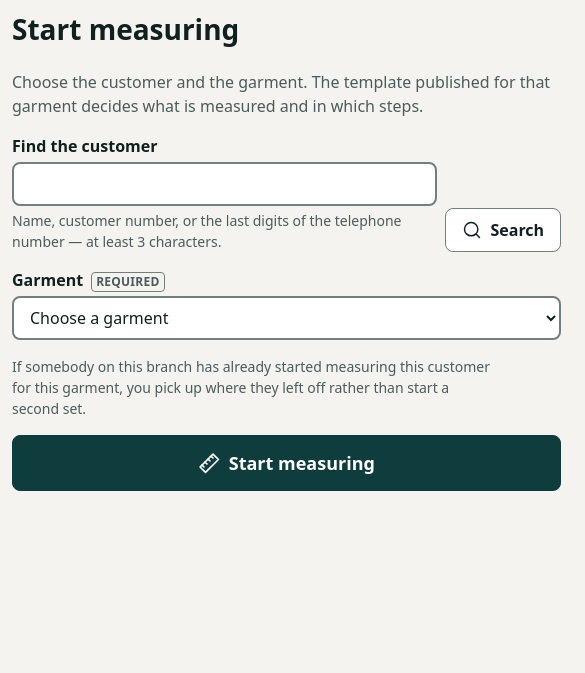
Test: starting a measurement › forgets a customer chosen from a list that is no longer on screen
Type "Asha" into the search field labelled "Find the customer" at [225, 184], box left=12, top=162, right=438, bottom=206
Then press Enter
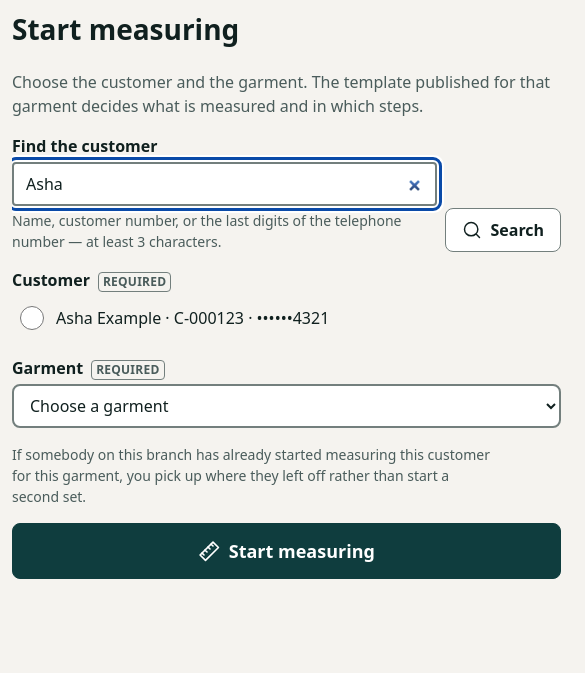
Click the radio button labelled "Asha Example · C-000123 · ••••••4321" at [32, 318], box left=20, top=306, right=44, bottom=330
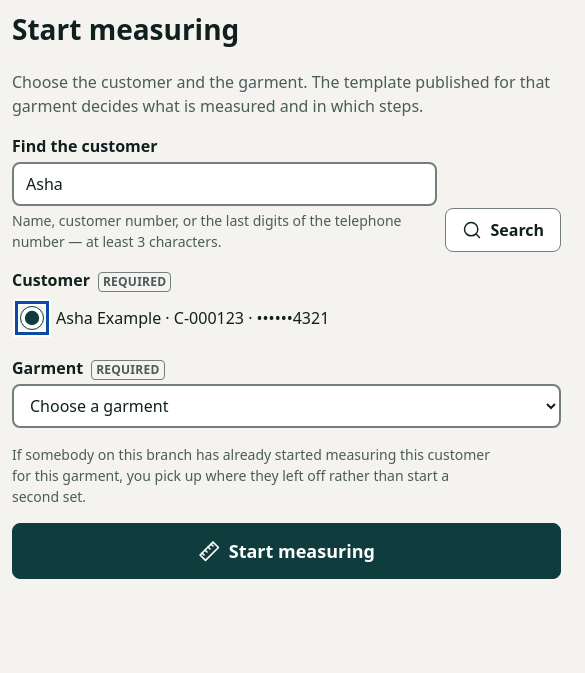
Replace the text in the search field labelled "Find the customer" with "Ravi" at [225, 184], box left=12, top=162, right=438, bottom=206
Then press Enter
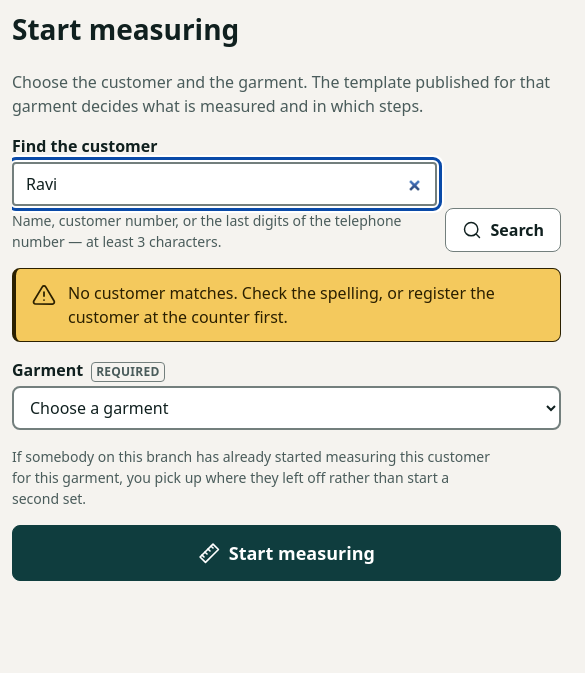
Now the text "No customer matches. Check the spelling, or register the customer at the counter first." is shown, box left=68, top=282, right=495, bottom=328
Select "Pattern work — Blouse" in the dropdown labelled "Garment" at [287, 408], box left=12, top=386, right=561, bottom=430
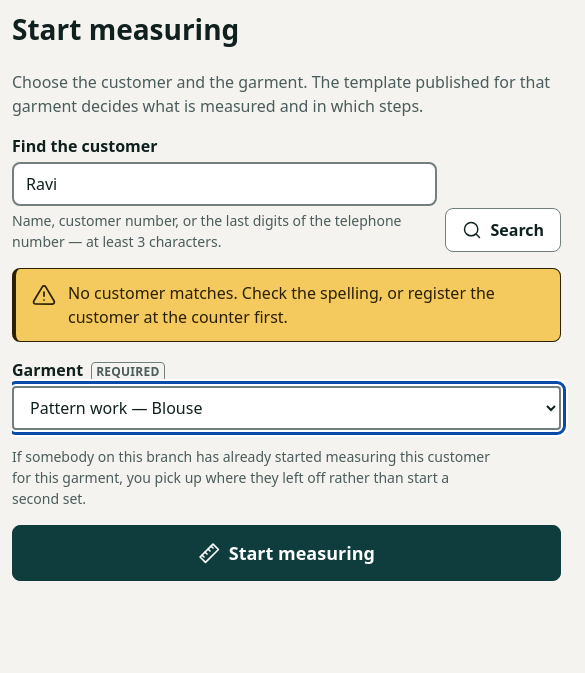
Click the button "Start measuring" at [287, 553], box left=12, top=525, right=561, bottom=581
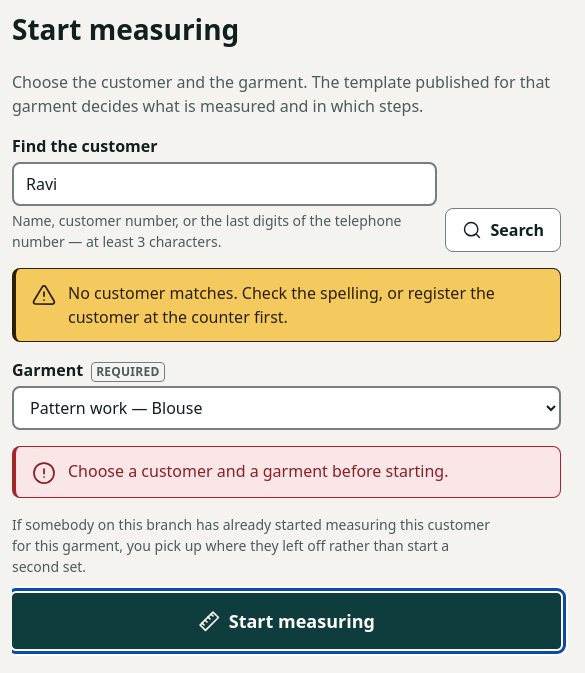
Now the text "Choose a customer and a garment before starting." is shown, box left=68, top=460, right=448, bottom=482
